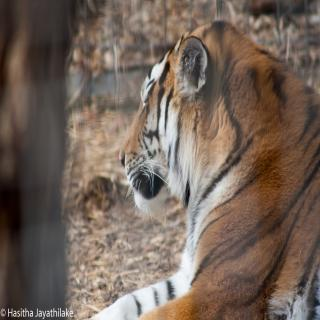Tiger: (92, 19, 320, 320)
